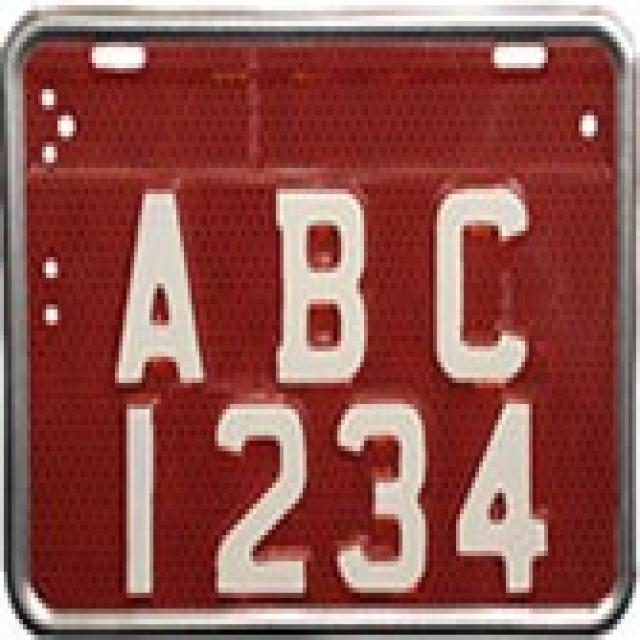Placa_mercosul_carro: (4, 11, 631, 629)
